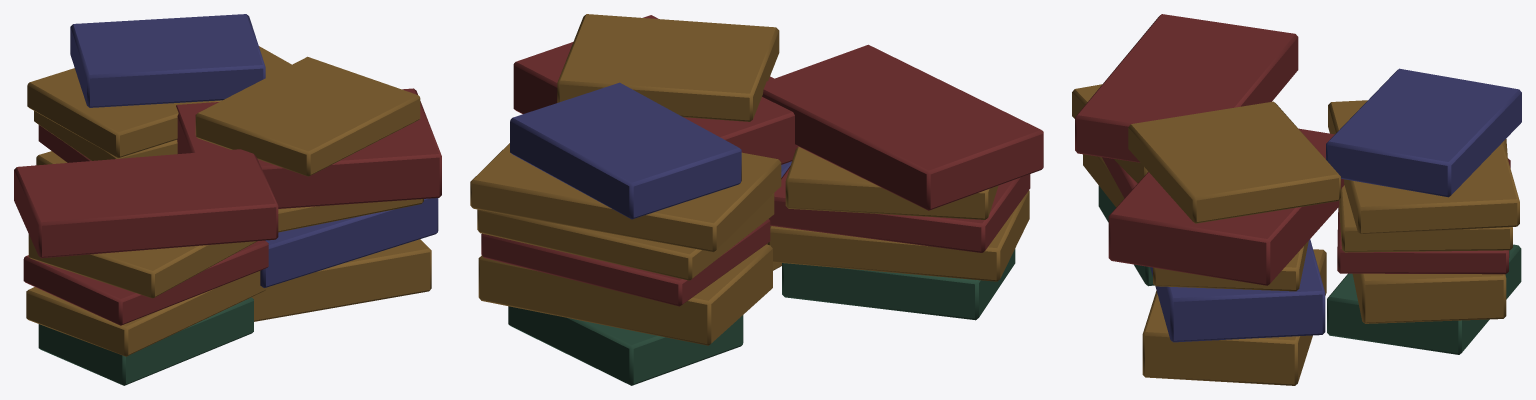
Rendered from book_pile.glb.
3 views of the same model, side by side, from view 1: azimuth 30°, elevation 25°; view 2: azimuth 150°, elevation 25°; view 3: azimuth 270°, elevation 25° (orthographic). The views are drawn at different scales.
Parts seen in each view (by area): view 1: book_pile; view 2: book_pile; view 3: book_pile.
Part boxes in pixels (x1,y1,x2,y2): book_pile: (14, 14, 441, 385); book_pile: (470, 14, 1043, 385); book_pile: (1072, 14, 1521, 385).
Size of the model in its own units: 0.8964 by 0.3671 by 0.7693.
